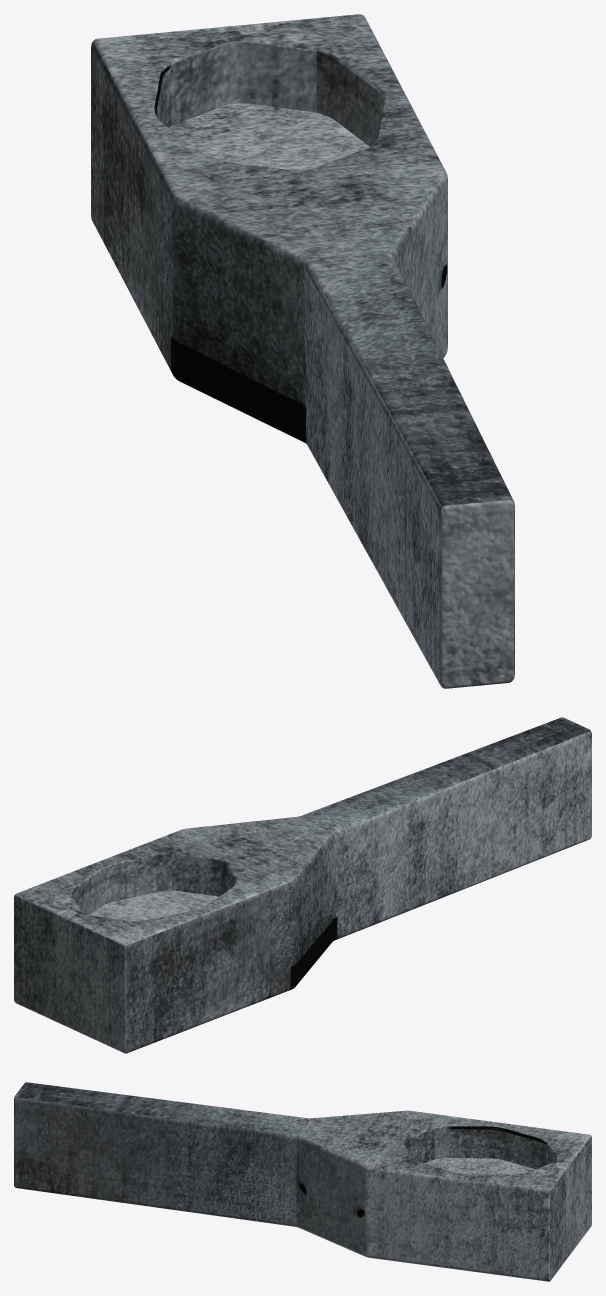
Rendered from studyroom_20.obj.
3 renders of one model, top to bottom at view 1: azimuth 30°, elevation 25°; view 2: azimuth 150°, elevation 25°; view 3: azimuth 270°, elevation 25°, orthographic. The views are drawn at different scales.
Bounding box in the file's own units: 0.0558 × 0.022 × 0.1247.
